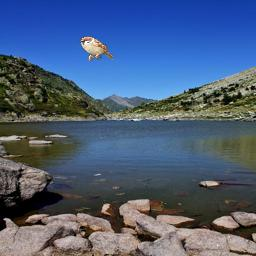Sparrow: (79, 37, 113, 62)
